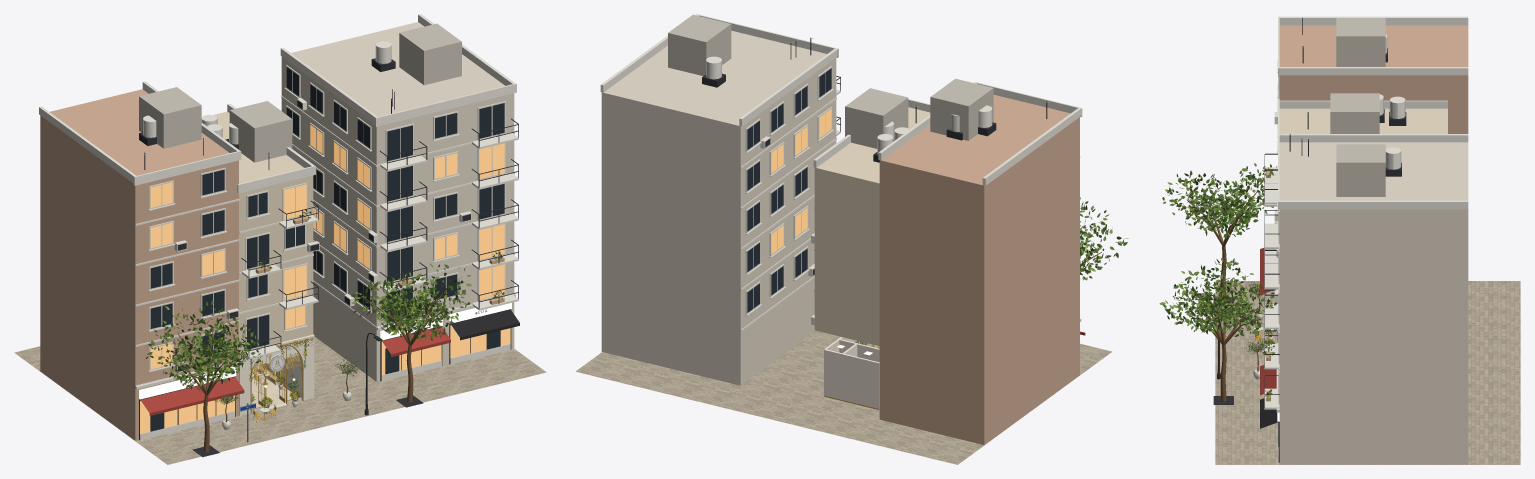
Rendered from gallery-50.glb.
3 views of the same model, side by side, from view 1: azimuth 30°, elevation 25°; view 2: azimuth 150°, elevation 25°; view 3: azimuth 270°, elevation 25° (orthographic).
Parts seen in each view (by area): view 1: bw5, bw1, bwtrim, win, paving, win_lit_n, bw3, facade_hi, leaf, iron, leaf2, aw_r (+7 smaller); view 2: bw1, bw5, paving, facade_hi, bwtrim, bw3, plaster, win, win_lit_n, iron, leaf, leaf2; view 3: bw1, paving, bwtrim, bw5, bw3, leaf, leaf2, facade_hi, iron, trunk, aw_r.
Part boxes in pixels (box(x1,y1,x2,y2)): bw5: box(40, 89, 238, 440); bw1: box(281, 22, 514, 381); bwtrim: box(39, 14, 518, 439); win: box(150, 67, 504, 431); paving: box(14, 337, 546, 464); win_lit_n: box(140, 125, 510, 433); bw3: box(139, 23, 461, 162); facade_hi: box(213, 111, 313, 352); leaf: box(147, 211, 504, 407); iron: box(139, 58, 518, 457); leaf2: box(145, 209, 504, 407); aw_r: box(140, 326, 450, 415); bw1: box(601, 30, 836, 385); bw5: box(879, 94, 1079, 444); paving: box(576, 331, 1111, 464); facade_hi: box(814, 107, 930, 345); bwtrim: box(600, 14, 1082, 332); bw3: box(668, 14, 993, 148); plaster: box(824, 337, 879, 409); win: box(747, 68, 831, 312); win_lit_n: box(771, 109, 831, 254); iron: box(702, 37, 1047, 275); leaf: box(855, 205, 1128, 343); leaf2: box(856, 197, 1127, 344); bw1: box(1279, 142, 1468, 464); paving: box(1215, 281, 1520, 464); bwtrim: box(1264, 16, 1468, 461); bw5: box(1279, 25, 1468, 133); bw3: box(1330, 18, 1385, 196); leaf: box(1159, 163, 1277, 397); leaf2: box(1163, 164, 1278, 395); facade_hi: box(1279, 108, 1447, 133); iron: box(1191, 17, 1406, 462); trunk: box(1186, 192, 1271, 401); aw_r: box(1260, 248, 1276, 395).
Bounding box in the file's own units: 30.66 × 22.09 × 24.89.
66 materials, 17 textured.
